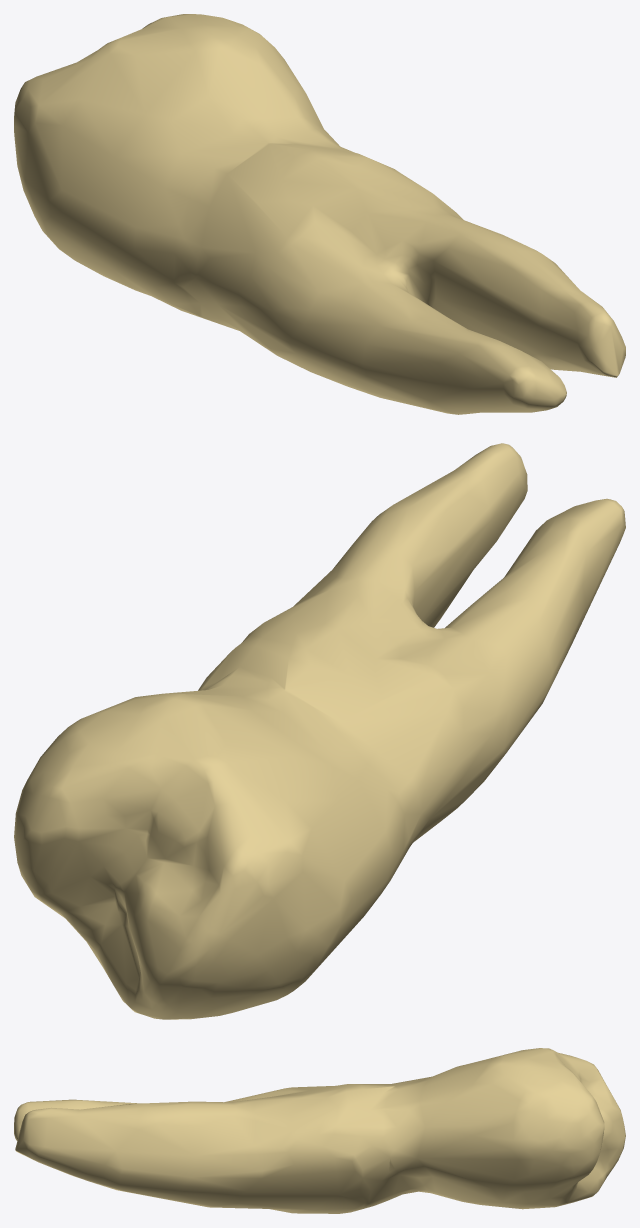
The picture shows the model from 3 angles, top to bottom: view 1: azimuth 30°, elevation 25°; view 2: azimuth 150°, elevation 25°; view 3: azimuth 270°, elevation 25°; orthographic projection. The views are drawn at different scales.
Visible parts, largest first — view 1: 右侧上颌第一前磨牙; view 2: 右侧上颌第一前磨牙; view 3: 右侧上颌第一前磨牙.
Boxes of the visible parts, x1,y1,x2,y2 form: 右侧上颌第一前磨牙: (14,14,625,414); 右侧上颌第一前磨牙: (14,443,625,1019); 右侧上颌第一前磨牙: (14,1048,625,1213).
Size of the model in its own units: 0.0137 by 0.0116 by 0.0409.
